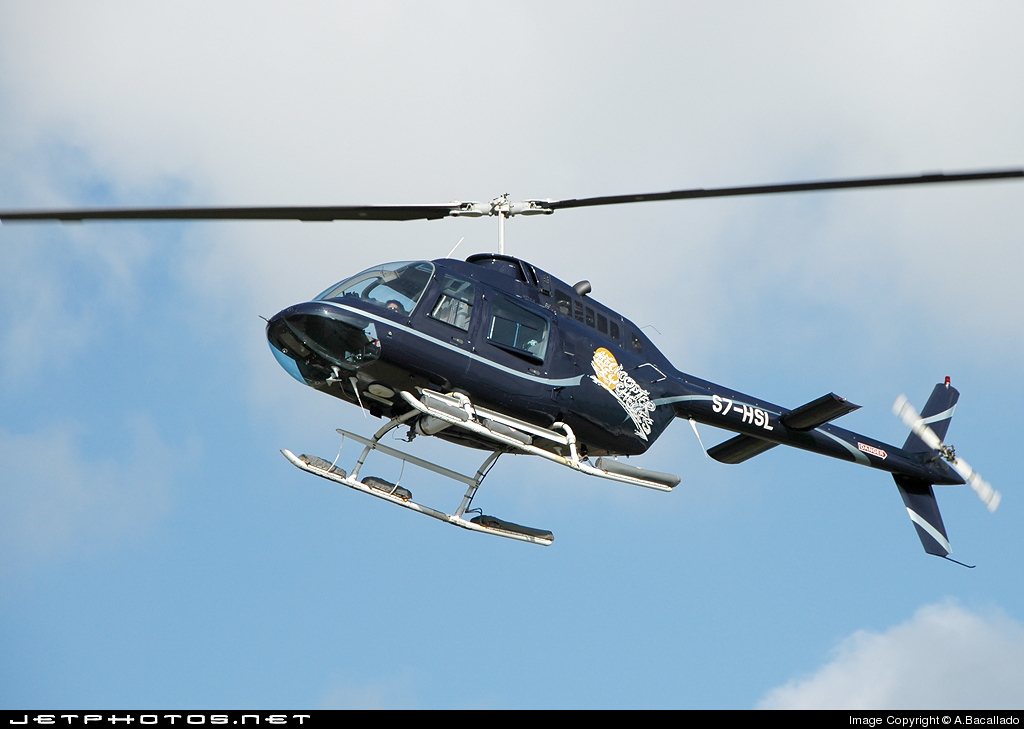number: (710, 389, 779, 437)
